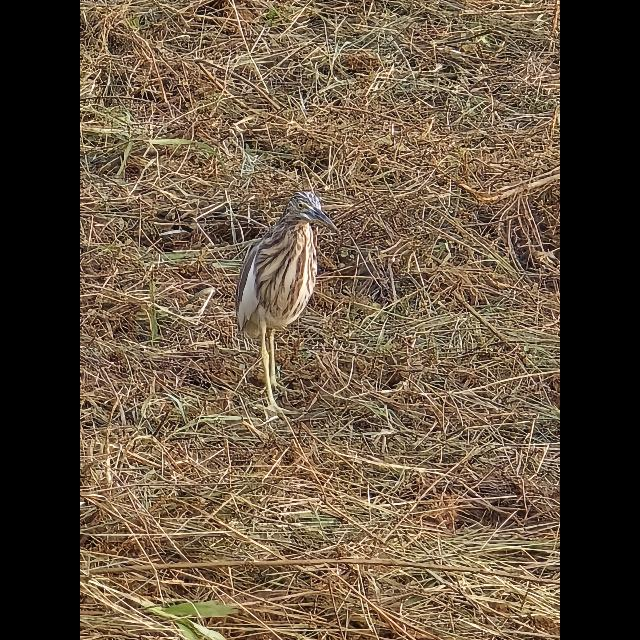heron: (230, 180, 358, 428)
